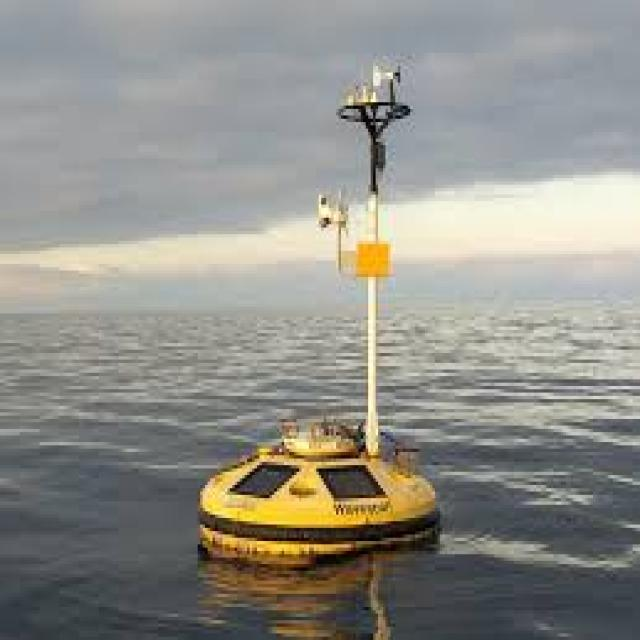buoy: (193, 46, 463, 572)
